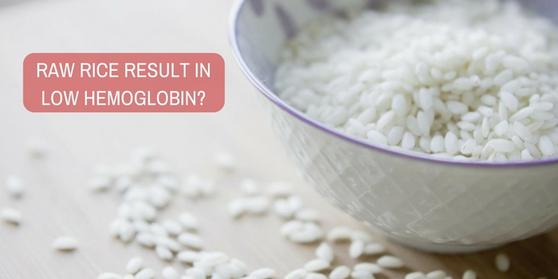rice: (278, 8, 558, 240)
